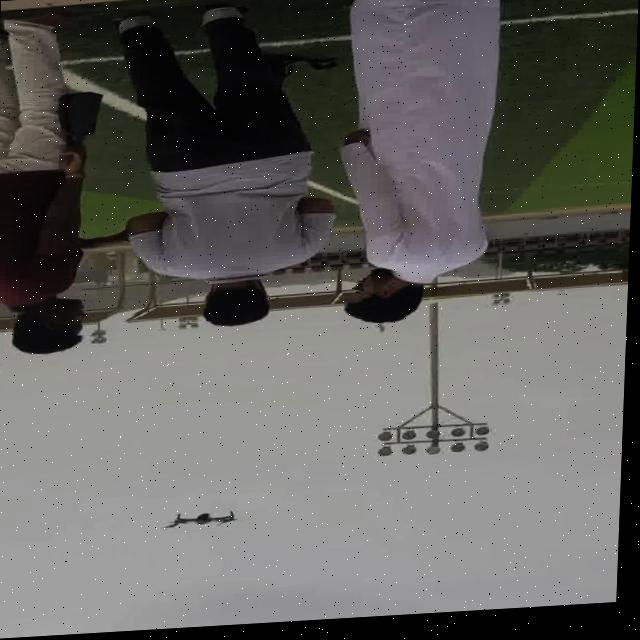drone: (162, 508, 251, 535)
